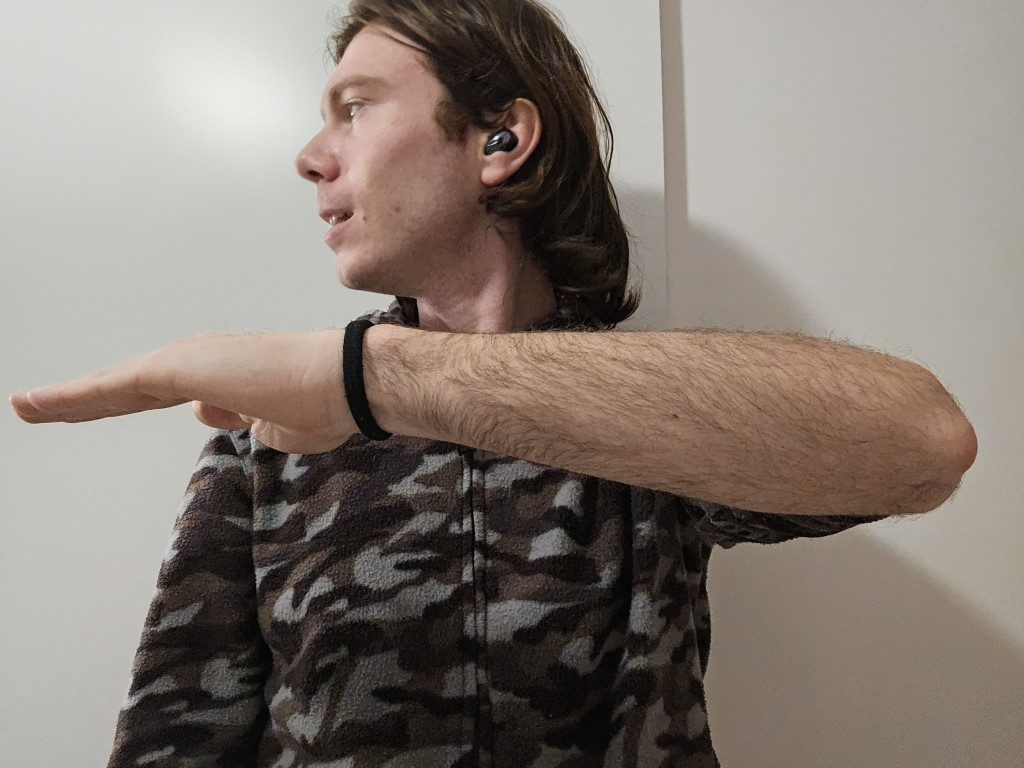space: (10, 317, 997, 525)
